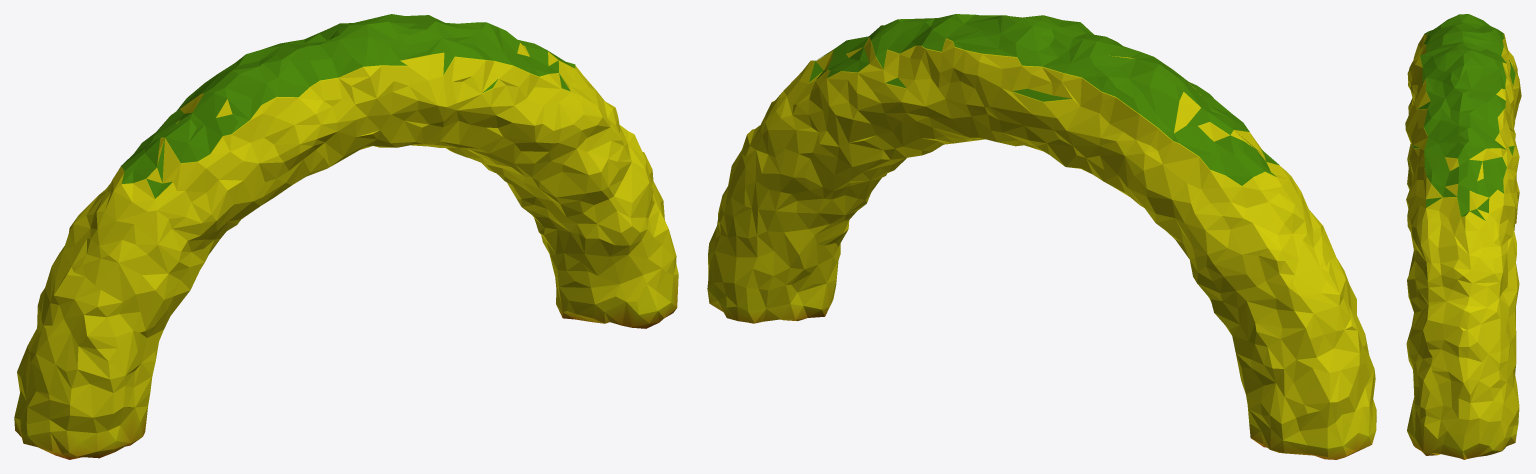
File: canyon_arch_2.glb
The picture shows the model from 3 angles, left to right: view 1: azimuth 30°, elevation 25°; view 2: azimuth 150°, elevation 25°; view 3: azimuth 270°, elevation 25°; orthographic projection. The views are drawn at different scales.
Parts seen in each view (by area): view 1: canyon_arch_2.002; view 2: canyon_arch_2.002; view 3: canyon_arch_2.002.
Part boxes in pixels (<box>): canyon_arch_2.002: <box>14,14,678,459</box>; canyon_arch_2.002: <box>707,14,1376,459</box>; canyon_arch_2.002: <box>1405,14,1521,459</box>.
Size of what is drawn, in the model's own units: 79.55 by 40.61 by 14.8.
